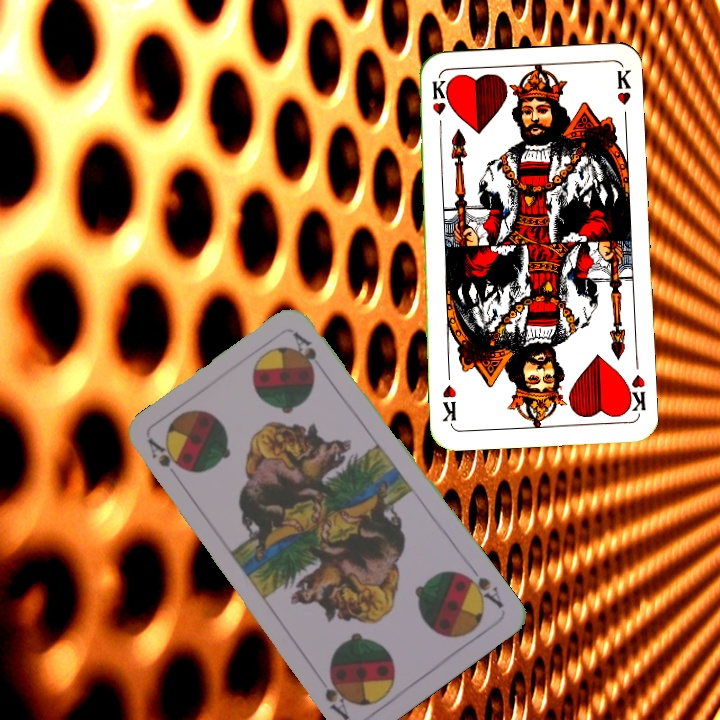HK: (428, 75, 449, 135), (621, 371, 648, 416)
SA: (457, 561, 507, 612), (144, 435, 181, 470)
